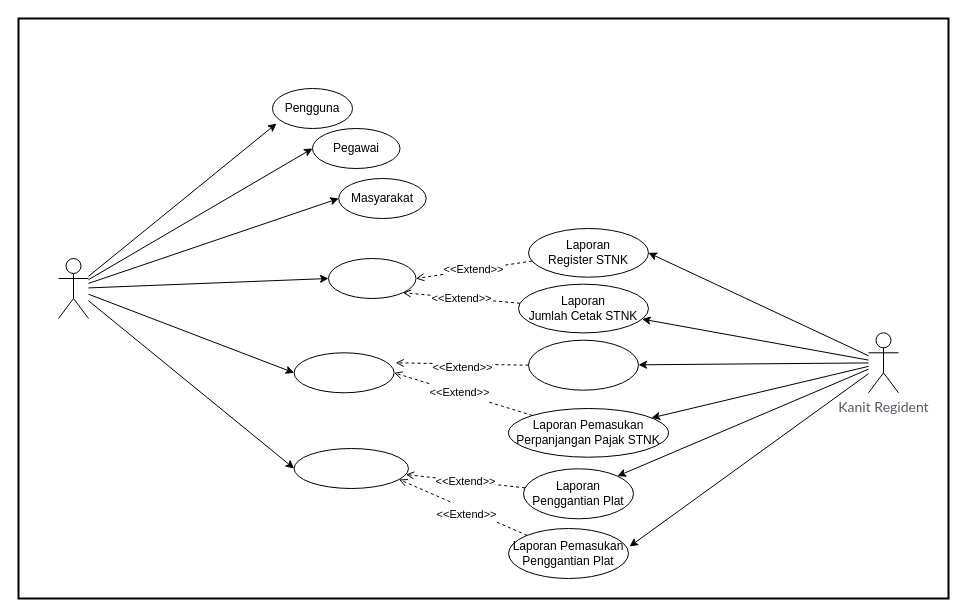
Some shapes in this 966 by 616 pixel diagram are drawn without their labels. Here are the shapes that lost their labels. From the top down, the centre of each, then its label:
At point 73,288: "Administrator".
At point 372,278: "STNK".
At point 343,372: "Penggantian Pajak STNK".
At point 583,364: "Laporan Perpanjangan Pakak STNK".
At point 350,468: "Penggantian Plat".
